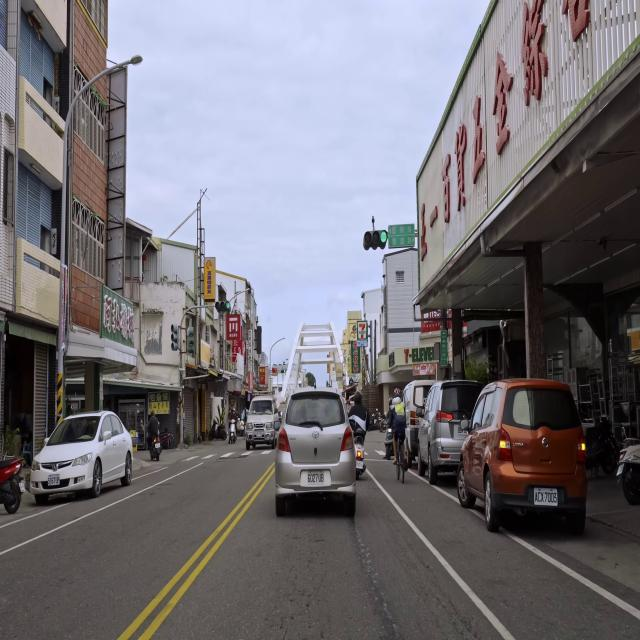green light: (364, 230, 387, 247), (215, 300, 230, 310)
